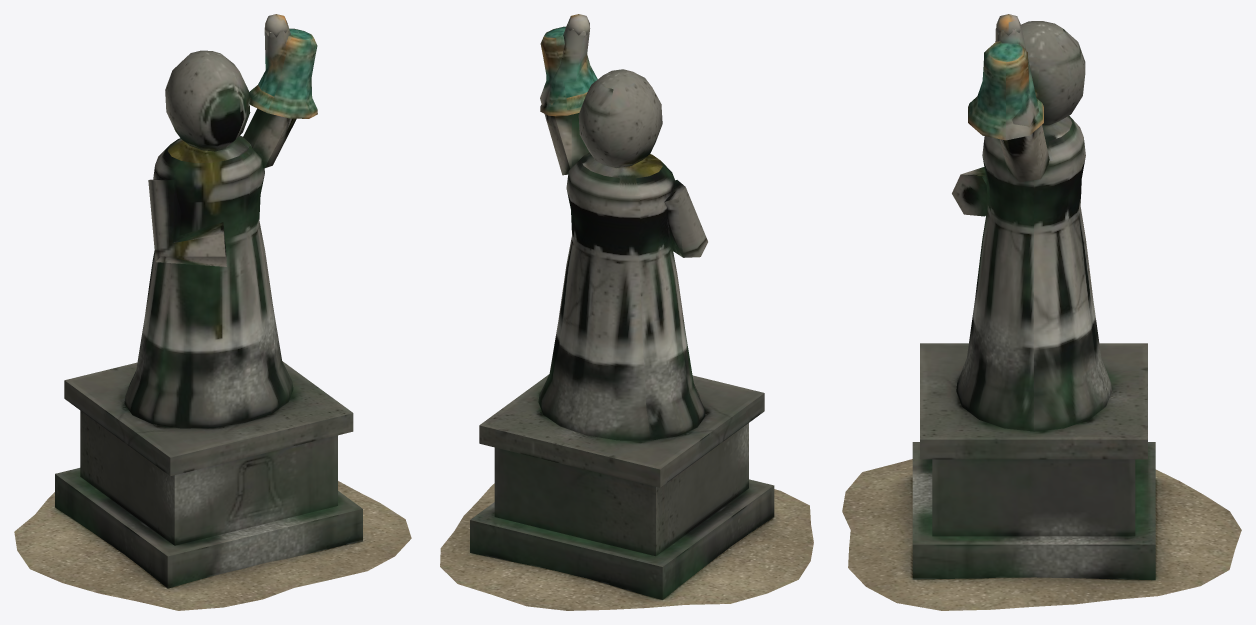
Rendered from drowned_statue.glb.
3 views of the same model, side by side, from view 1: azimuth 30°, elevation 25°; view 2: azimuth 150°, elevation 25°; view 3: azimuth 270°, elevation 25° (orthographic). The views are drawn at different scales.
Visible parts, largest first — view 1: drowned_statue; view 2: drowned_statue; view 3: drowned_statue.
Boxes of the visible parts, x1,y1,x2,y2 form: drowned_statue: (14,14,411,610); drowned_statue: (440,14,813,610); drowned_statue: (842,14,1241,610).
Bounding box in the file's own units: 1.62 × 2.36 × 1.56.
Materials: 1 (1 with a texture image).
